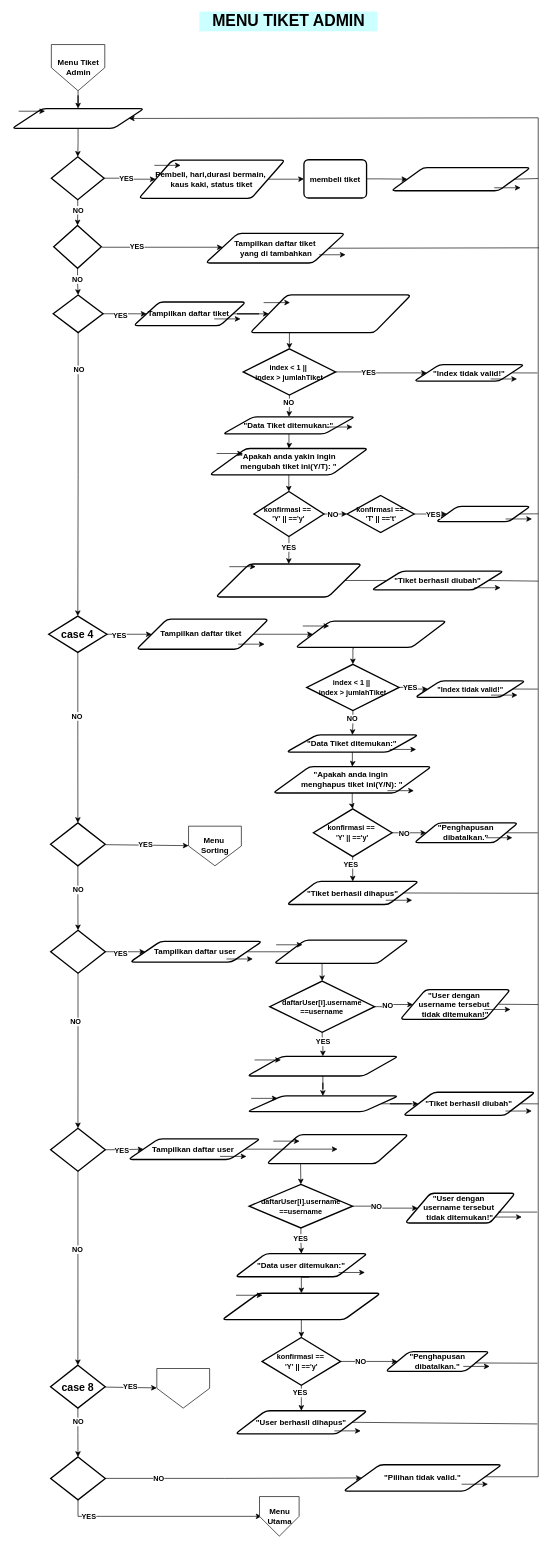
Image size: 555x1548. Some labels were removed from this diagram. The centre of each missing label's shape, as x and y in pixels:
"Apakah anda ingin menghapus user ini(Y/N): ": (x=301, y=1306)
"Masukkan nomer daftar username yang ingin dihapus: ": (x=337, y=1149)
"Masukkan Password baru ": (x=322, y=1065)
"Masukkan Role baru : ": (x=322, y=1103)
"Masukkan Urutan Tiket yang ingin dihapus(1-jumlahTiket): ": (x=371, y=634)
"Masukkan Urutan Tiket yang ingin diubah (1 - JumlahTiket) : ": (x=330, y=313)
"Masukkan username yang ingin diubah: ": (x=341, y=951)
"Perubahanan dibatalkan.": (x=483, y=513)
"Pilih menu(1/2/3/4/5): ": (x=77, y=118)
"Tiket berhasil ditambahkan": (x=460, y=179)
case 1: (x=77, y=178)
case 2: (x=77, y=246)
case 3: (x=77, y=313)
case 5: (x=78, y=844)
case 6: (x=78, y=951)
case 7: (x=78, y=1149)
case 9: (x=78, y=1478)
hari , durasi bermain, kaus kaki,status tiket: (x=288, y=580)
Menu Kelola Harga Tiket: (x=183, y=1388)
